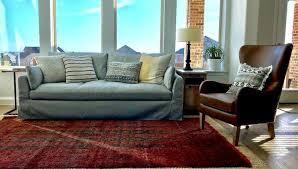chair: (201, 42, 290, 144)
light: (174, 29, 202, 72)
sofa: (17, 51, 181, 122)
table: (3, 64, 31, 119), (177, 68, 206, 118)
